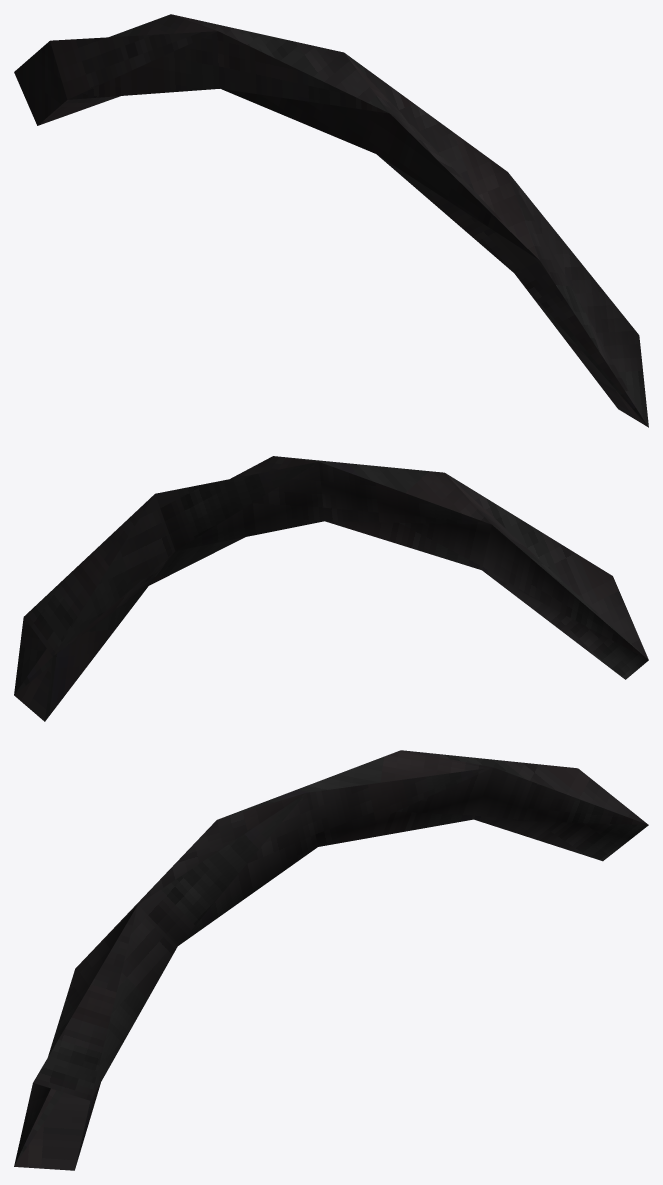
Rendered from original-189.obj.
3 renders of one model, top to bottom at view 1: azimuth 30°, elevation 25°; view 2: azimuth 210°, elevation 25°; view 3: azimuth 270°, elevation 25°, orthographic.
Parts seen in each view (by area): view 1: mesh80/mesh80-geometry#mesh80-geometry; view 2: mesh80/mesh80-geometry#mesh80-geometry; view 3: mesh80/mesh80-geometry#mesh80-geometry.
Boxes of the visible parts, x1,y1,x2,y2 form: mesh80/mesh80-geometry#mesh80-geometry: [14, 14, 648, 427]; mesh80/mesh80-geometry#mesh80-geometry: [14, 456, 648, 721]; mesh80/mesh80-geometry#mesh80-geometry: [14, 750, 648, 1170].
Bounding box in the file's own units: 0.00461 × 0.00443 × 0.00827.
